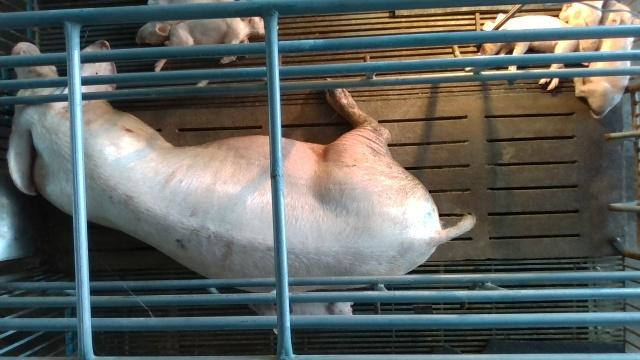piglet: (574, 0, 640, 119), (480, 13, 578, 90), (135, 18, 250, 72), (249, 302, 353, 333), (560, 0, 604, 65)
sow-sit: (5, 40, 477, 293)
